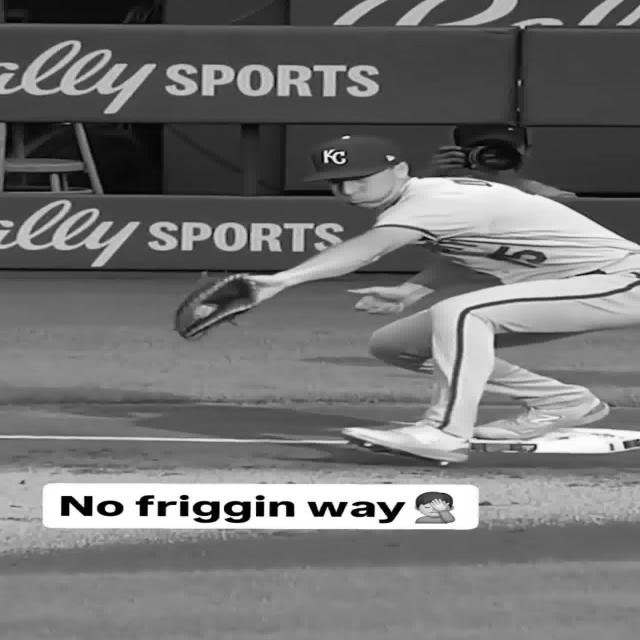base: (471, 428, 640, 454)
baseball: (193, 304, 218, 319)
baseball_glove: (176, 274, 256, 339)
shoe: (473, 398, 609, 440), (342, 421, 469, 462)
